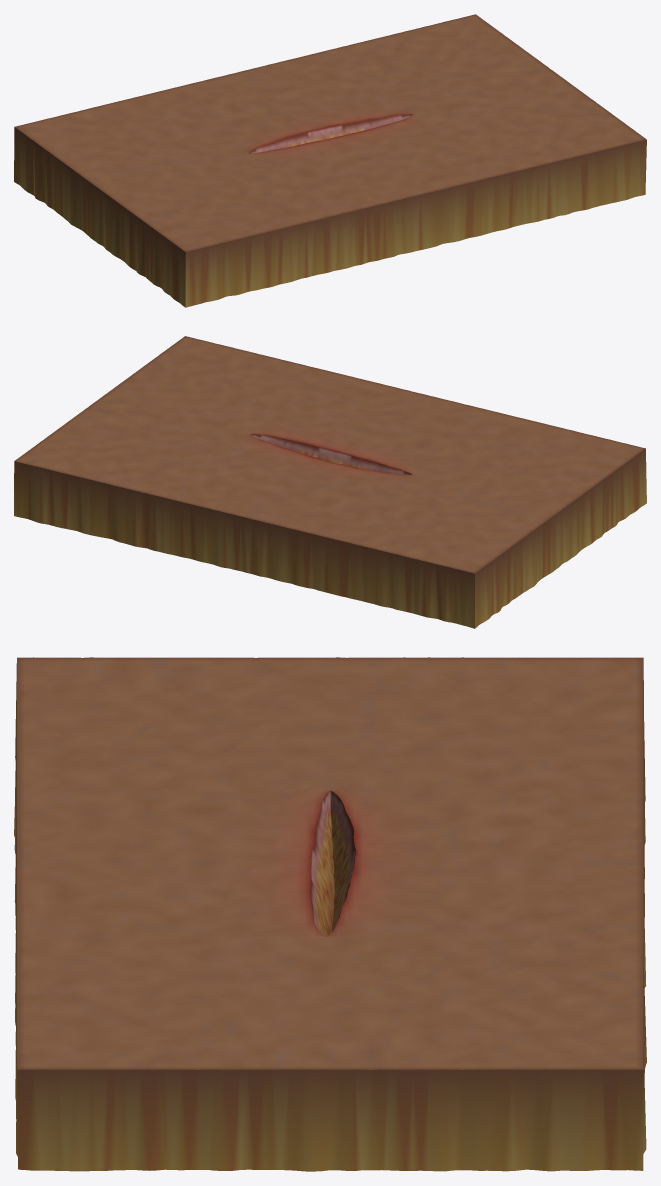
Rendered from pad_gap.glb.
The picture shows the model from 3 angles, top to bottom: view 1: azimuth 30°, elevation 25°; view 2: azimuth 150°, elevation 25°; view 3: azimuth 270°, elevation 25°; orthographic projection. The views are drawn at different scales.
Parts seen in each view (by area): view 1: pad_gap; view 2: pad_gap; view 3: pad_gap.
Boxes of the visible parts, x1,y1,x2,y2 form: pad_gap: [14, 14, 646, 307]; pad_gap: [14, 336, 646, 628]; pad_gap: [14, 657, 646, 1171].
Bounding box in the file's own units: 14.08 × 1.61 × 9.09.
